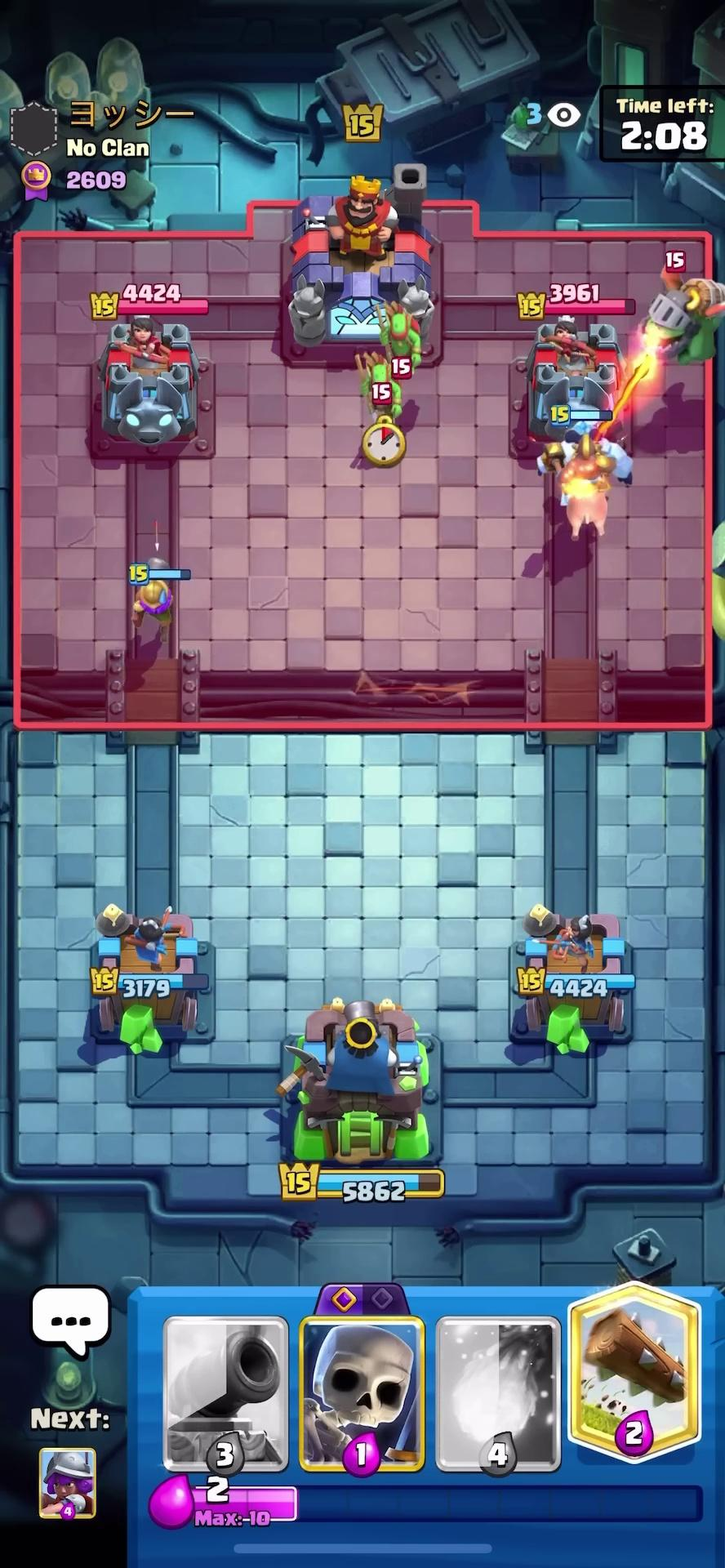hog_rider: (533, 437, 625, 553)
ice_golem: (537, 408, 635, 492)
musketeer: (114, 549, 202, 639)
